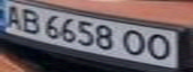5: (75, 19, 96, 48)
6: (39, 12, 63, 41), (57, 16, 78, 44)
8: (93, 22, 118, 52)
A: (0, 2, 27, 30)
B: (18, 7, 45, 35)
O: (142, 32, 178, 62), (118, 28, 151, 57)
